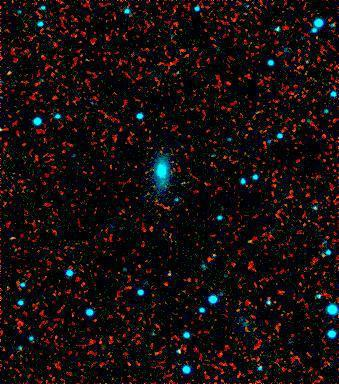star: (237, 224, 267, 254)
